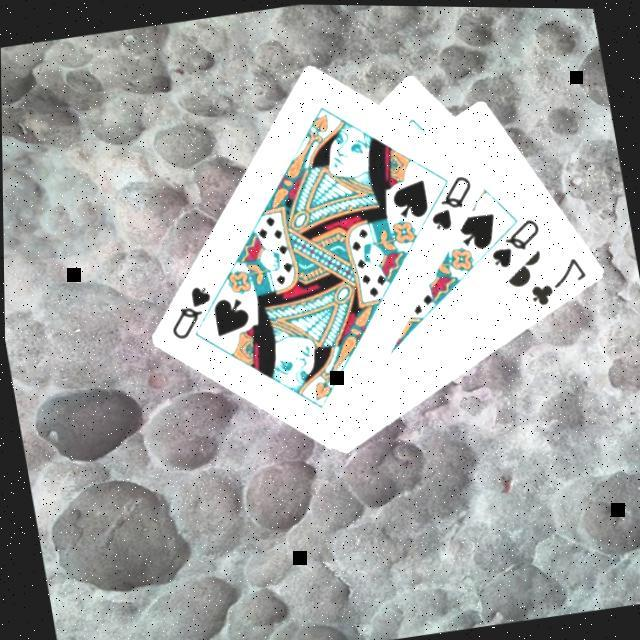7C: (520, 251, 592, 312)
QS: (482, 212, 548, 274), (420, 169, 480, 235), (160, 281, 218, 345)
